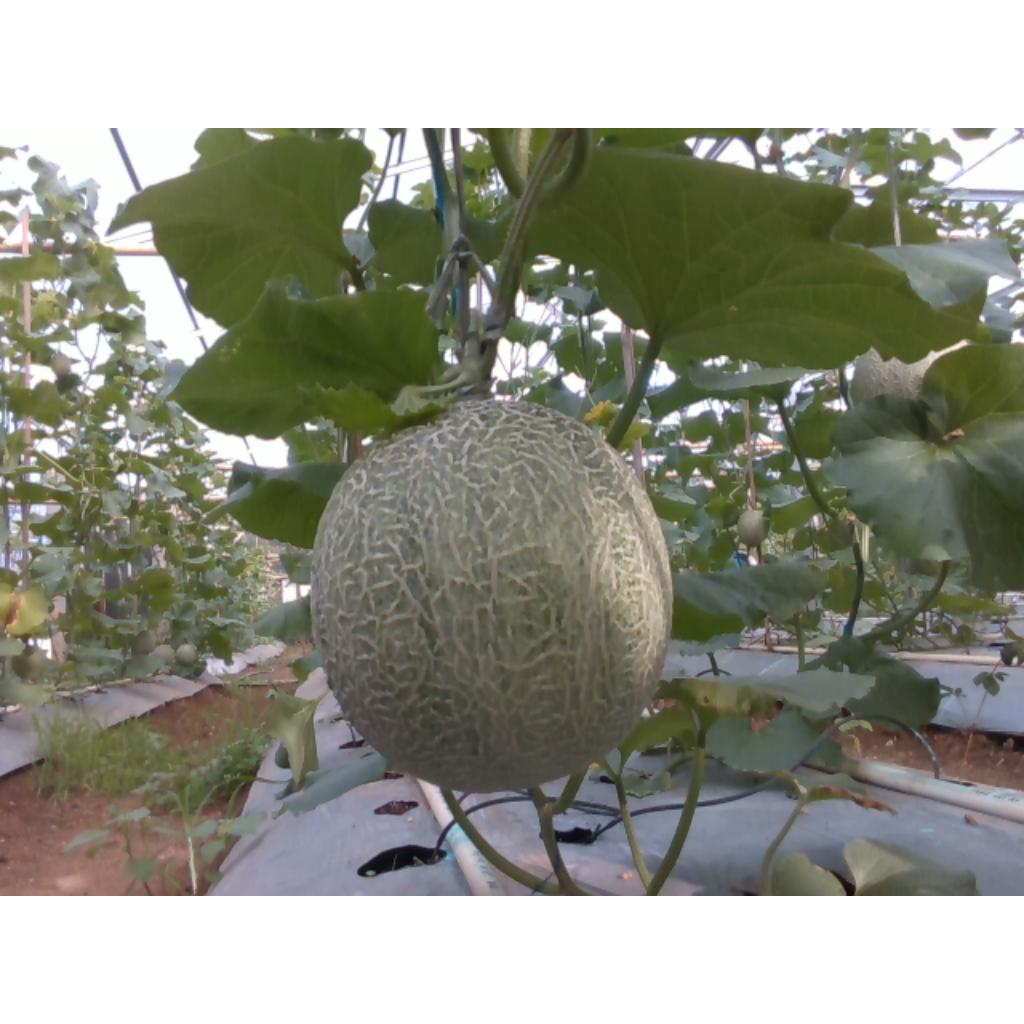melon: (312, 400, 674, 793)
